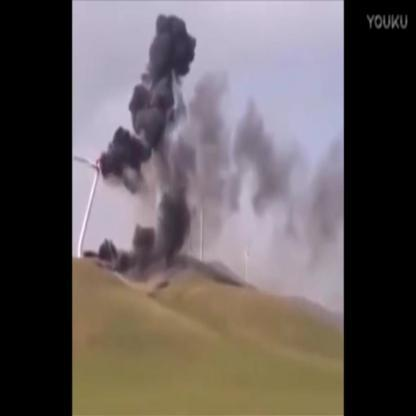smoke: (134, 16, 196, 152), (154, 154, 194, 251), (98, 127, 150, 198), (98, 226, 157, 284)
